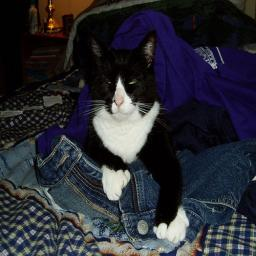catnose: (112, 96, 125, 108)
